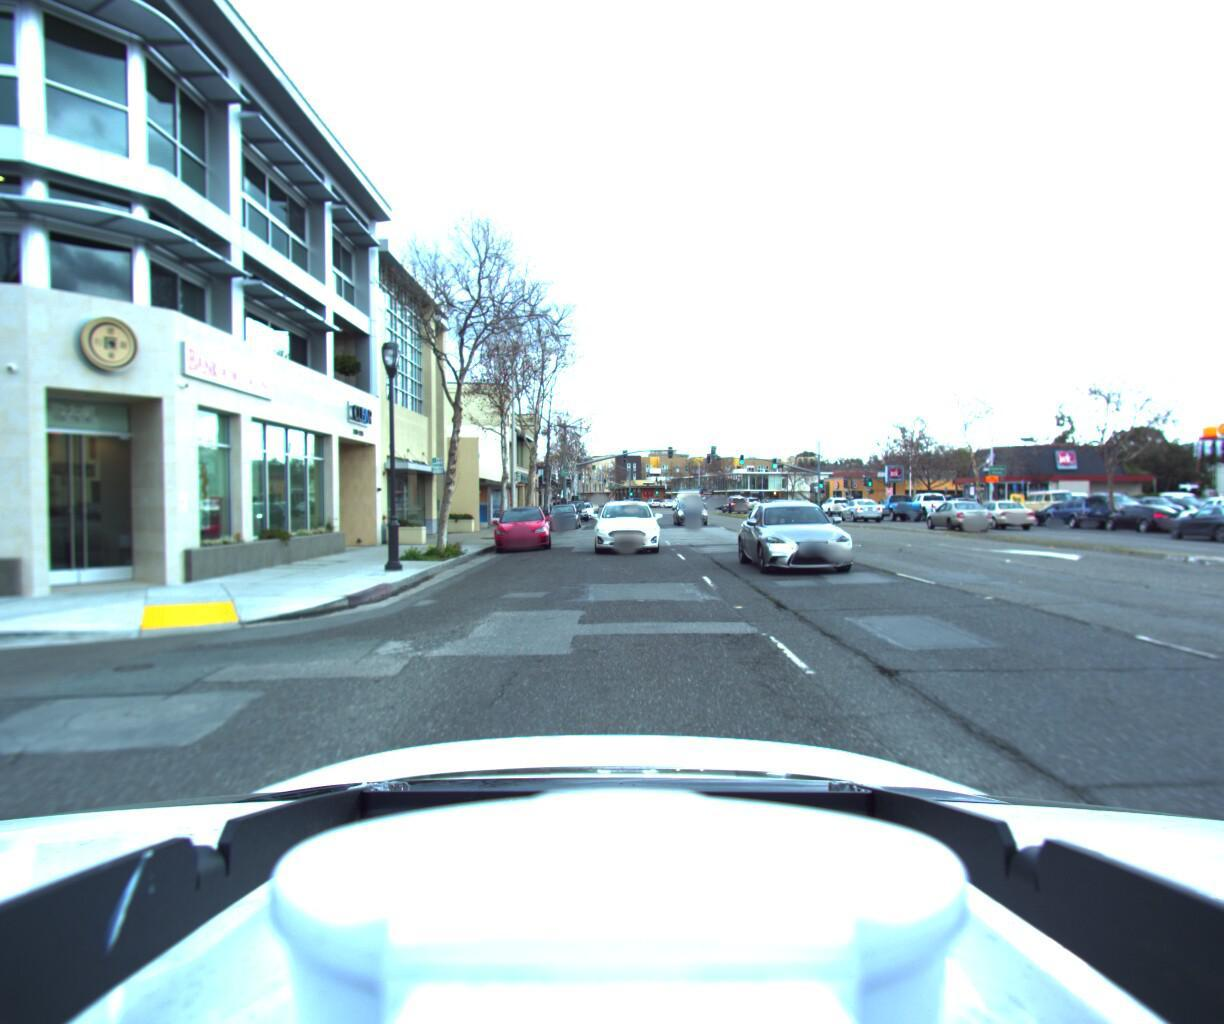car: (734, 496, 891, 584), (586, 497, 660, 553), (1145, 497, 1224, 540), (486, 504, 551, 553), (1034, 493, 1116, 529), (1094, 502, 1192, 532), (1162, 490, 1224, 537), (958, 498, 1038, 529), (917, 499, 994, 530), (1018, 485, 1079, 517), (892, 490, 955, 519), (1151, 487, 1215, 511), (869, 492, 921, 519), (832, 494, 884, 518), (670, 497, 714, 525), (541, 503, 582, 529), (817, 495, 853, 516), (726, 495, 749, 513), (1210, 491, 1224, 516)
